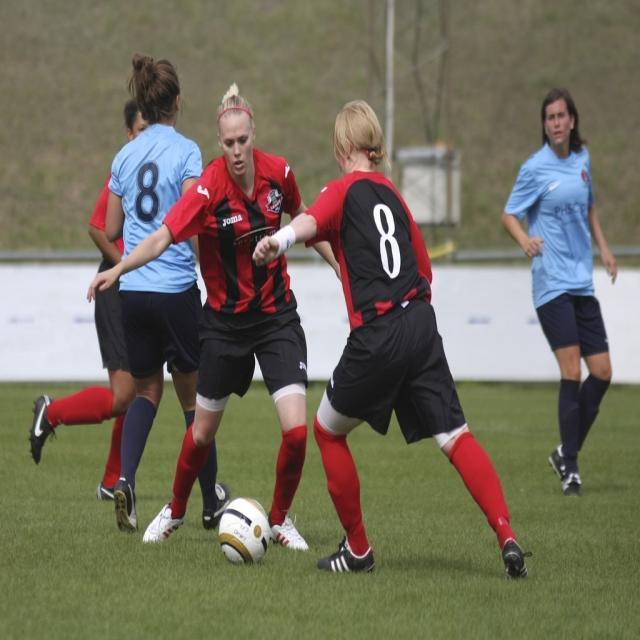football: (206, 490, 279, 566)
